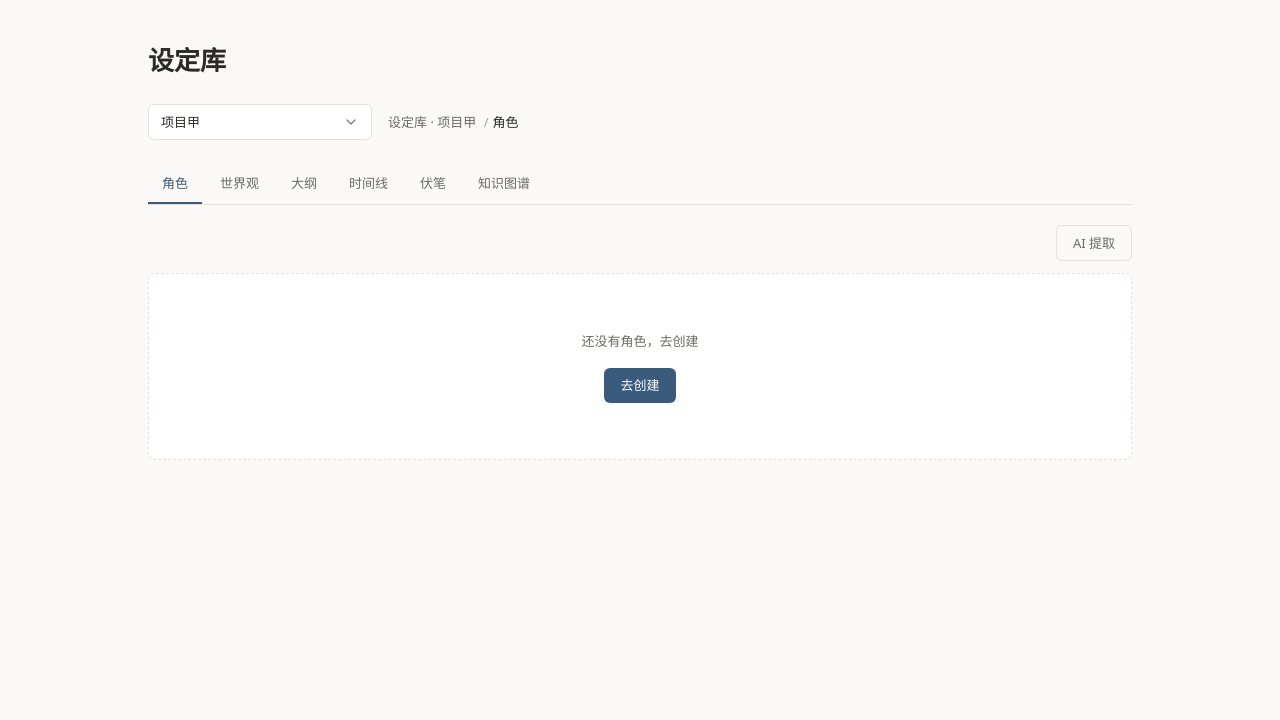
Test case: 设定库页 — F43 P2 地图工作台（世界观 tab，spec §5.8-5.13/§9.5 M1-M13） › M3 面包屑回跳：点 map-bc-maplist → 清空选中 → lib.worldMapSelectTip 空态
The width and height of the screenshot is (1280, 720).
Click the tab "世界观" at point(240, 184), box 206,164 -> 273,204
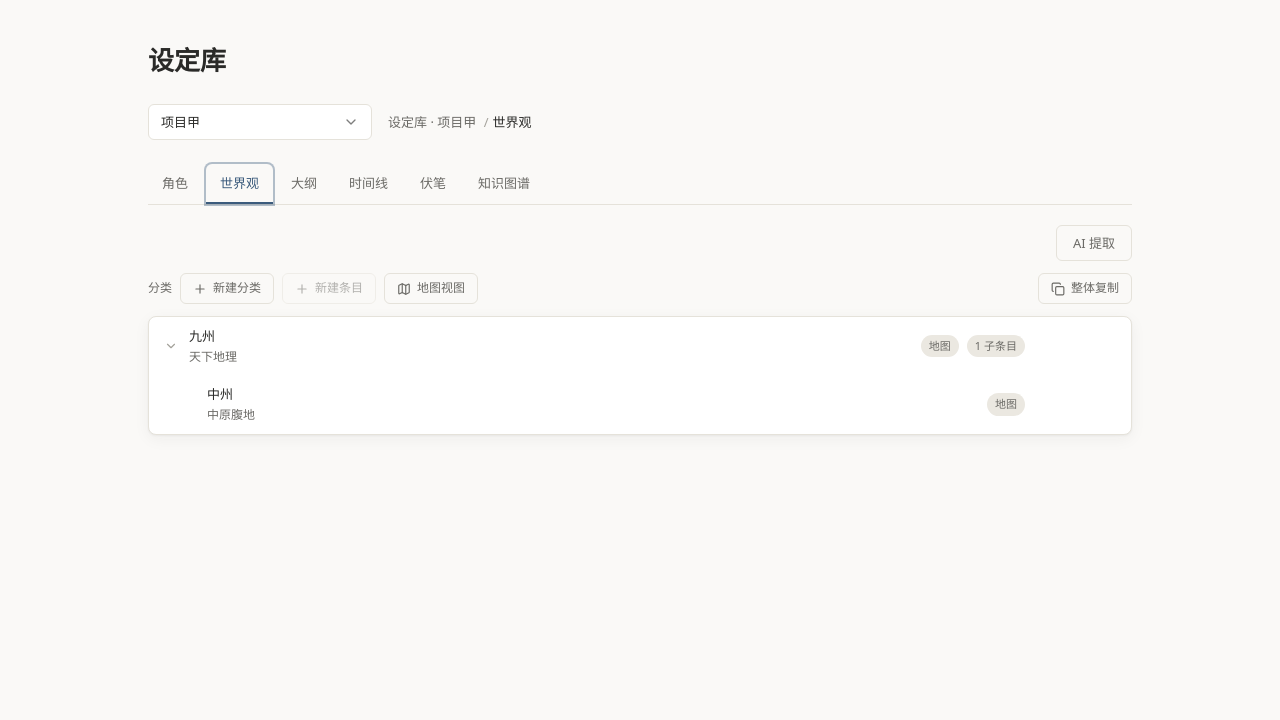
Check: the element with test id "library-list" is shown, box 148,316 -> 1132,435
Click the button with test id "map-view-entry" at point(431, 289), box 384,273 -> 478,304
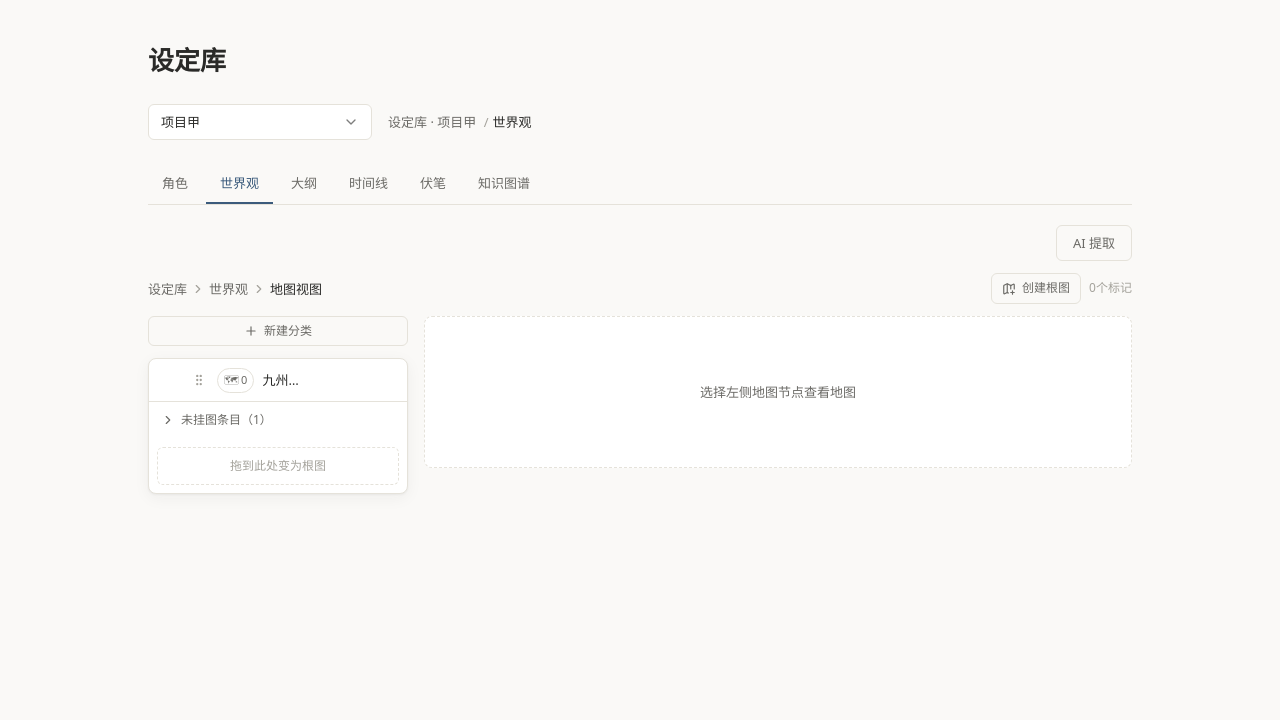
Check: the element with test id "map-workbench" is shown, box 148,273 -> 1132,506
Click the button with test id "world-map-badge-w1" at point(236, 380), box 217,368 -> 254,392
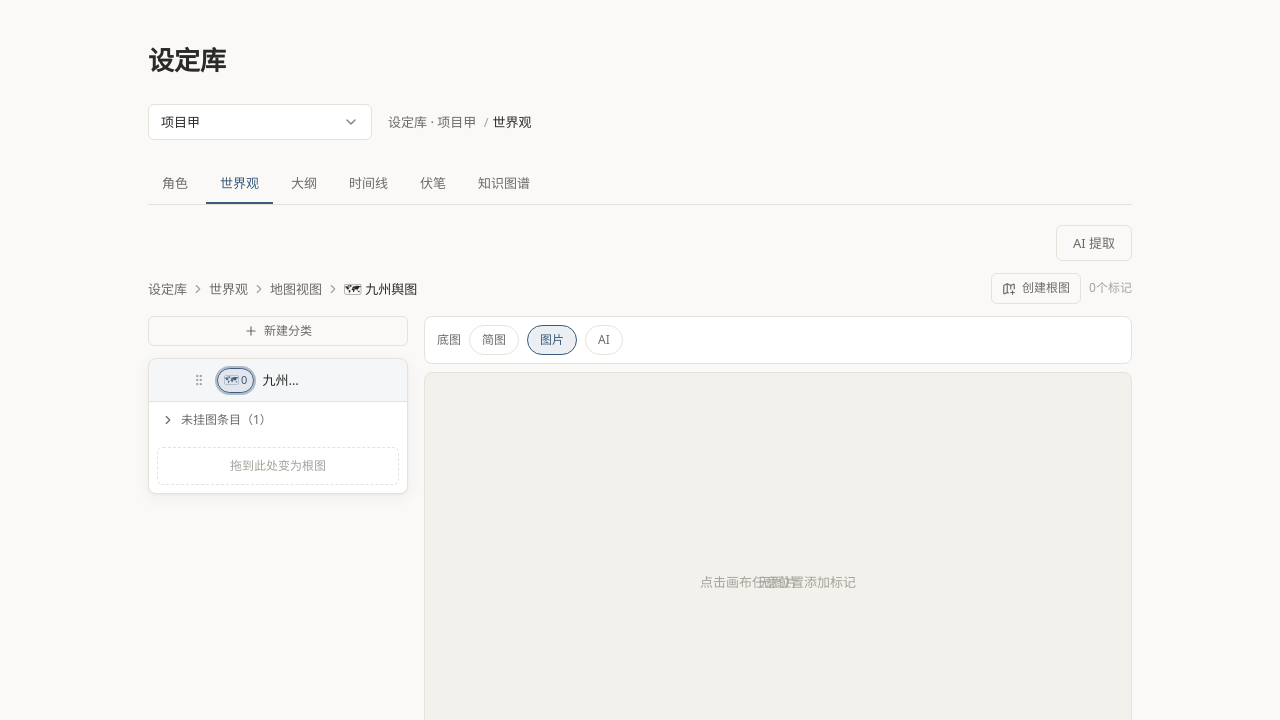
Click the button with test id "map-bc-maplist" at point(296, 289), box 270,278 -> 322,300
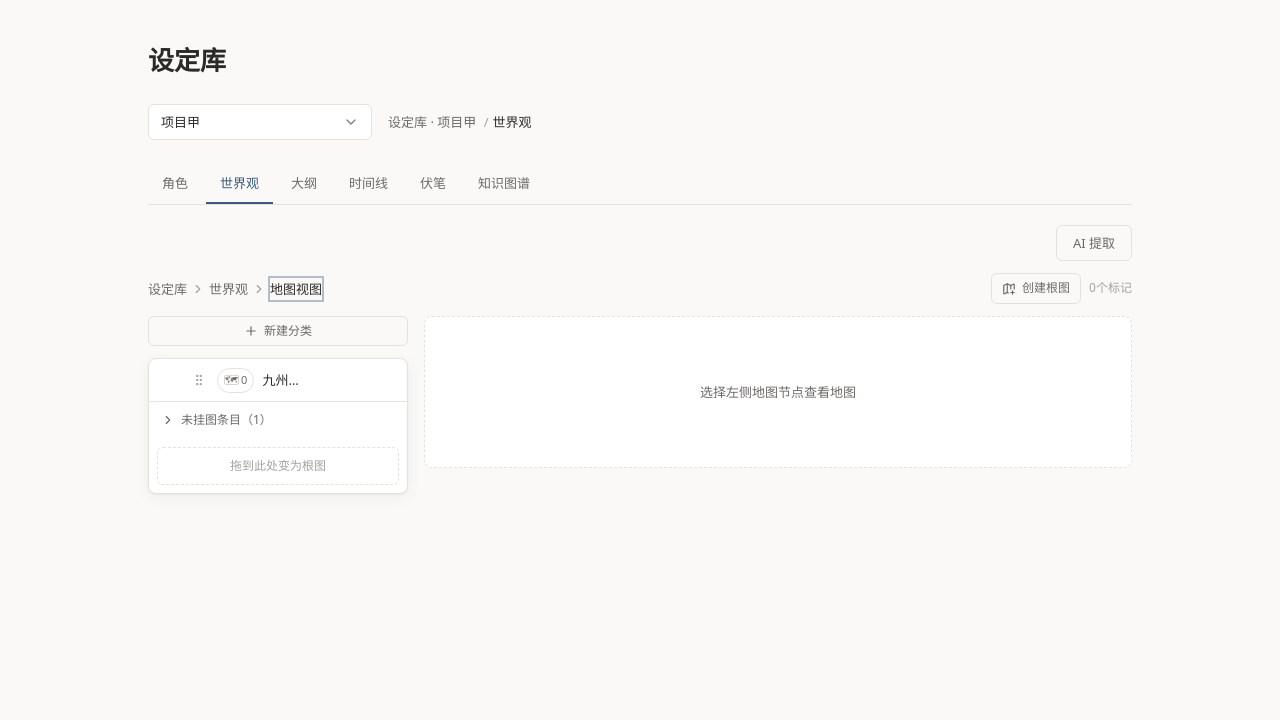
Check: the text "选择左侧地图节点查看地图" is shown, box 700,381 -> 856,403
